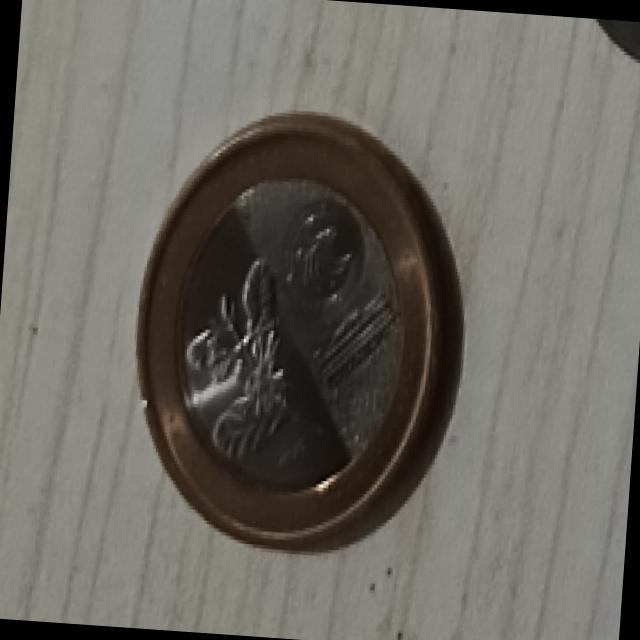20_peso: (137, 113, 461, 548)
